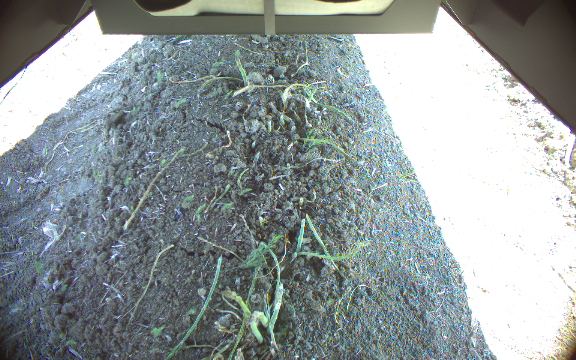aspa: (265, 281, 286, 334), (227, 290, 251, 322), (233, 55, 251, 87), (293, 216, 307, 251), (245, 320, 262, 344)
